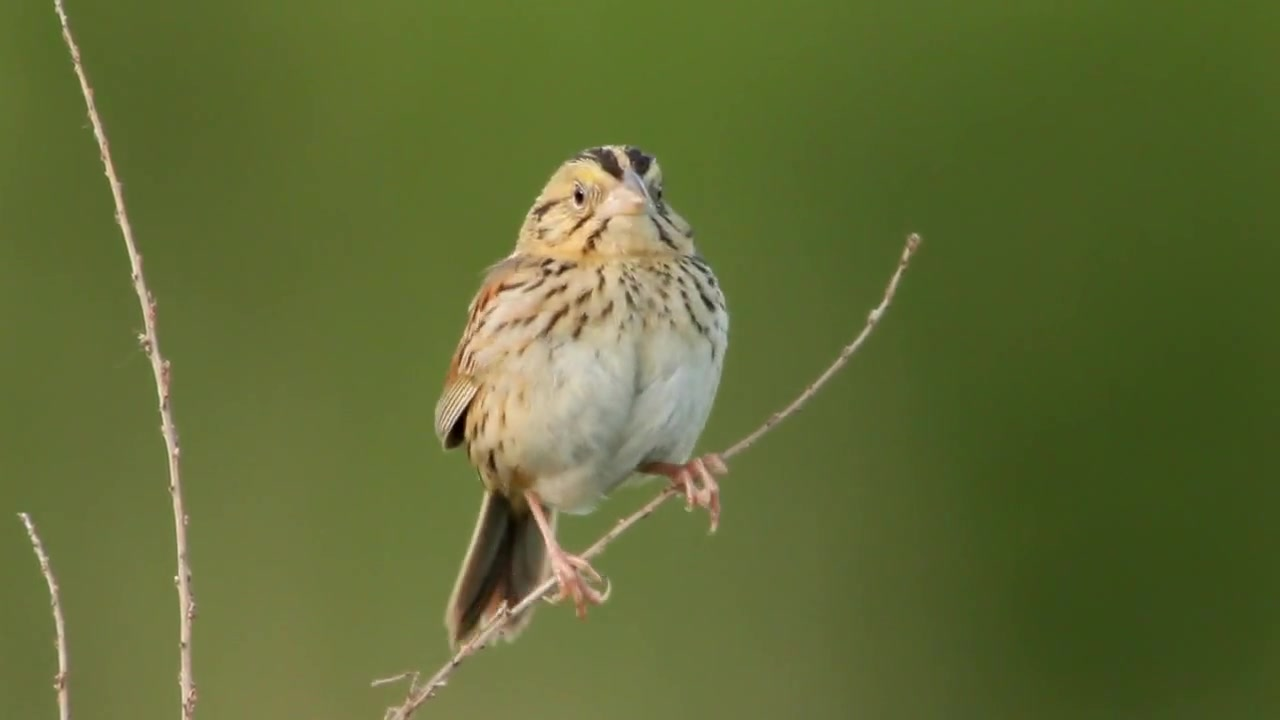bird: (433, 139, 733, 656)
